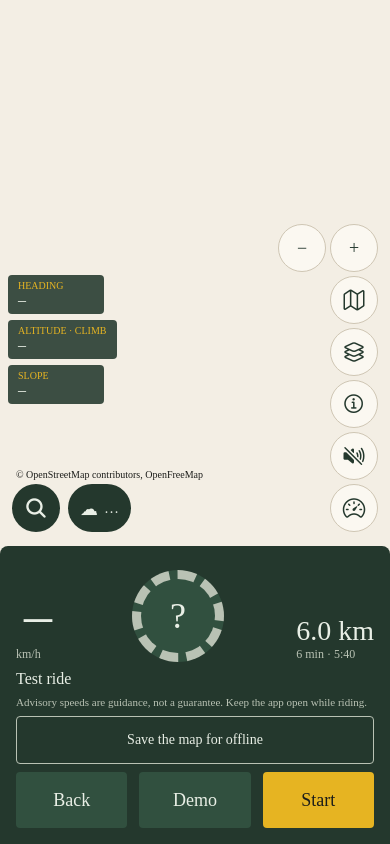
the vibration for speed does not depend on the mode
Click the button "Demo". click: (195,800)
box: [139,772,251,828]
Wait 5000 ms
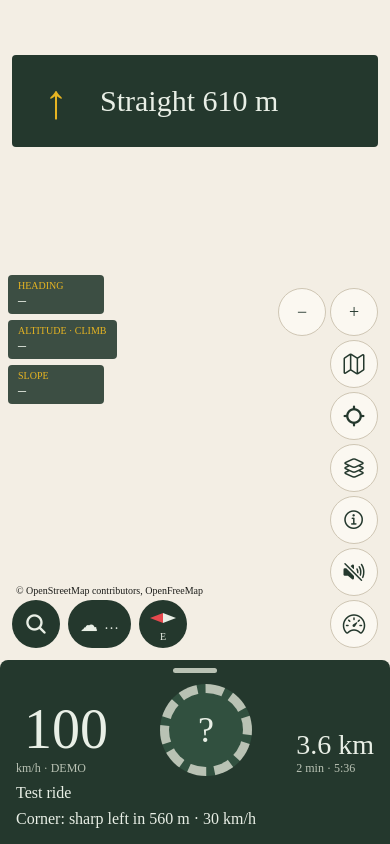
Result: the text "Straight 610 m" is shown at [100,84,278,117]
